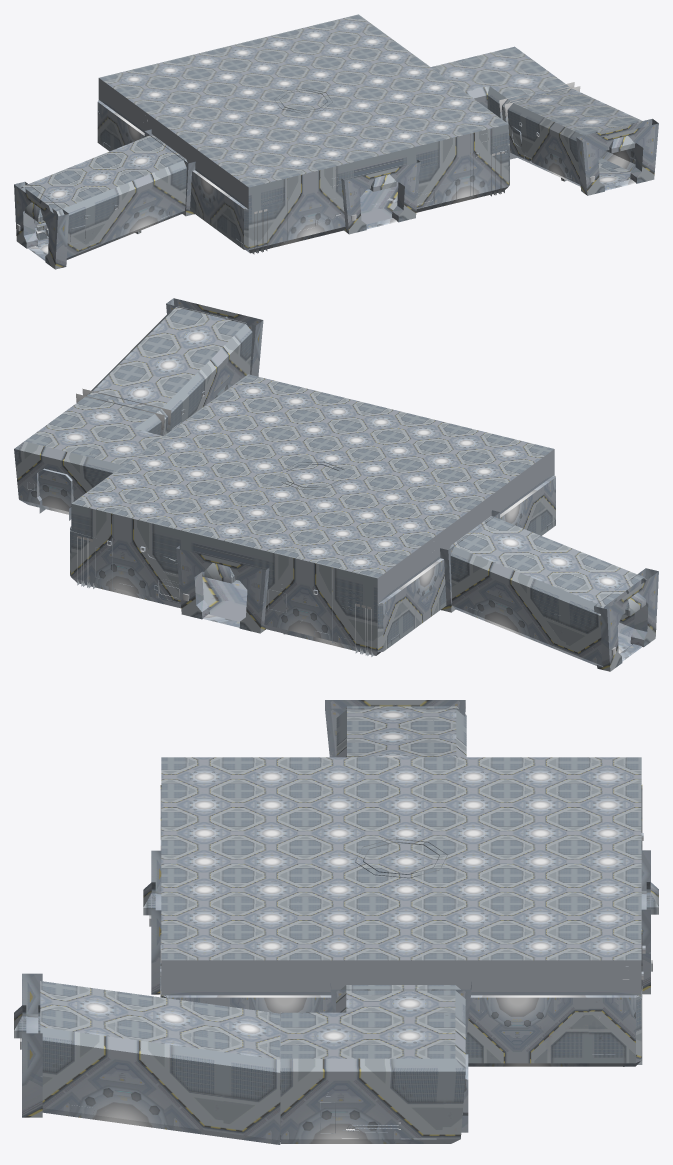
File: Combined_Mesh_root_scene__12_ac3e1c64__ZombiesII_laboratory_03_d_5a0f8016_c1f257.obj
3 views of the same model, one above another, from view 1: azimuth 30°, elevation 25°; view 2: azimuth 150°, elevation 25°; view 3: azimuth 270°, elevation 25° (orthographic). The views are drawn at different scales.
Size of the model in its own units: 78.61 by 13.91 by 53.73.
Materials: 273 (273 with a texture image).
